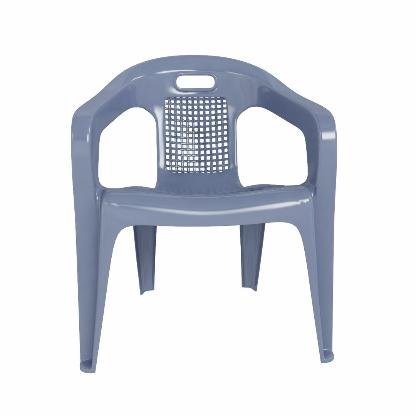chair: (63, 48, 340, 368)
